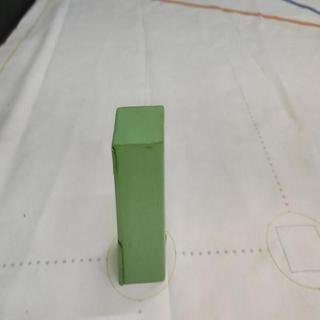greenbox: (110, 105, 168, 285)
